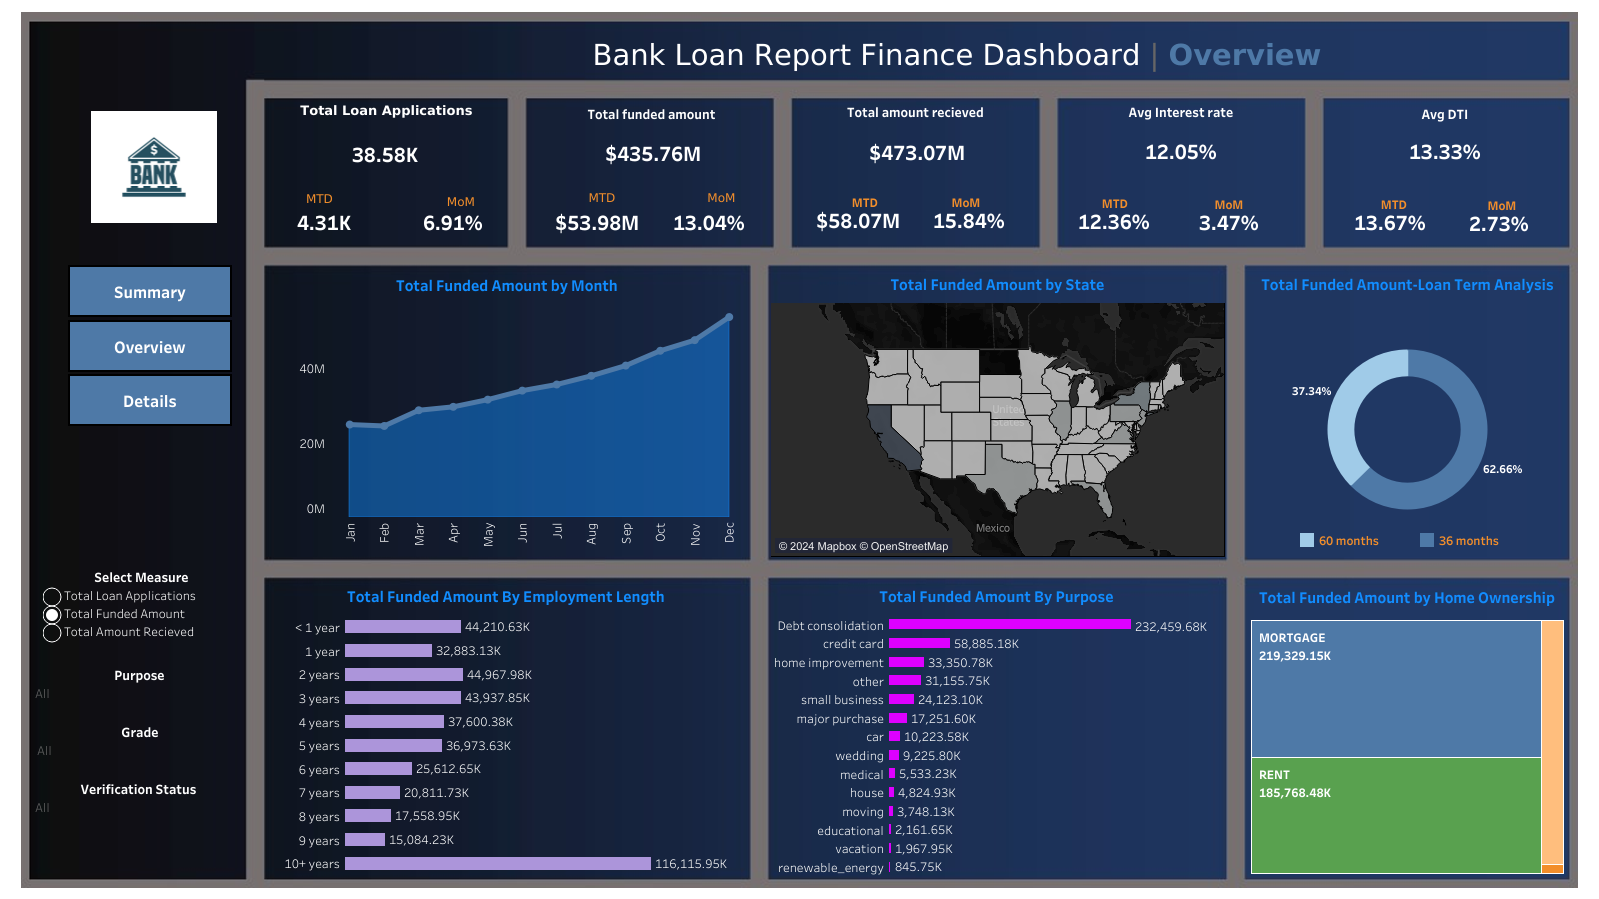

What the dashboard file says about the page in this screenshot:
{"tool":"tableau","page":{"name":"Overview","canvas":[1600,900],"ordinal":1},"visuals":[{"type":"image","param":"Image/Tableau Background 2.jpg","box":[8,8,1584,884]},{"type":"text","box":[461.1,27,992,55.5]},{"type":"worksheet","title":"Total Loan Applications","mark":"Automatic","box":[265,96,243,84]},{"type":"worksheet","title":"Total amount recieved","mark":"Automatic","box":[792,96,247,79]},{"type":"worksheet","title":"Avg Interest rate","mark":"Automatic","box":[1058,96,246,76]},{"type":"worksheet","title":"Total funded amount","mark":"Automatic","box":[532,98,239,77]},{"type":"worksheet","title":"Avg DTI","mark":"Automatic","box":[1323,98,244,73]},{"type":"image","param":"Image/Untitled.png","box":[91,103,126,129]},{"type":"text","box":[563,182,78,30]},{"type":"text","box":[682.2,184.5,78.5,25.5]},{"type":"text","box":[280,186,79,25]},{"type":"text","box":[421.8,189,78.5,25.5]},{"type":"text","box":[815,192,100,19]},{"type":"text","box":[916,192,100,19]},{"type":"text","box":[1065,193,100,19]},{"type":"text","box":[1179,194,100,19]},{"type":"text","box":[1344,194,100,19]},{"type":"text","box":[1452,195,100,19]},{"type":"worksheet","title":"Month to date Total recieved amount ","mark":"Automatic","box":[791,198,131,45]},{"type":"worksheet","title":"Month on month recieved  amount","mark":"Automatic","box":[898,198,142,44]},{"type":"worksheet","title":"Month to date Avg interest rate","mark":"Automatic","box":[1058,198,113,46]},{"type":"worksheet","title":"Month on month Loan Applications","mark":"Automatic","box":[397,199,113,47]},{"type":"worksheet","title":"Month to date Total funded amount","mark":"Automatic","box":[526,201,140,42]},{"type":"worksheet","title":"Month on month funded amount","mark":"Automatic","box":[646,202,127,40]},{"type":"worksheet","title":"Month to date Avg DTI","mark":"Automatic","box":[1322,203,136,39]},{"type":"worksheet","title":"Month on month Avg interest rate","mark":"Automatic","box":[1157,204,145,36]},{"type":"worksheet","title":"Month to date Total Loan Applications","mark":"Automatic","box":[271,205,108,34]},{"type":"worksheet","title":"Month on month Avg interest rate (2)","mark":"Automatic","box":[1432,207,134,32]},{"type":"dashboard-object","box":[68,265,164,52]},{"type":"worksheet","title":"State","mark":"Multipolygon","box":[771,267,453,289]},{"type":"worksheet","title":"Loan Term Analysis","mark":"Pie","cols":["Calculation_730990530841612290","Calculation_730990530841612290"],"box":[1248,267,319,289]},{"type":"worksheet","title":"Month","mark":"Area","rows":["Calculation_730990530834075648","Calculation_730990530834075648"],"cols":["issue_date"],"box":[268,268,478,289]},{"type":"dashboard-object","box":[68,320,164,52]},{"type":"dashboard-object","box":[68,374,164,52]},{"type":"legend","title":"Loan Term Analysis","param":"[federated.14ievtu05seqk316pjgtj1fu3us4].[none:term:nk]","box":[1297,530,250,24]},{"type":"parameter","param":"[Parameters].[Parameter 1]","box":[43,566,197,91]},{"type":"worksheet","title":"By Employment Length","mark":"Automatic","rows":["emp_length"],"cols":["Calculation_730990530834075648"],"box":[265,579,482,296]},{"type":"worksheet","title":"By Purpose","mark":"Automatic","rows":["purpose"],"cols":["Calculation_730990530834075648"],"box":[769,579,455,297]},{"type":"worksheet","title":"Home Ownership","mark":"Automatic","box":[1247,580,320,297]},{"type":"filter","title":"Avg DTI","param":"[federated.14ievtu05seqk316pjgtj1fu3us4].[none:purpose:nk]","box":[33,664,213,49]},{"type":"filter","title":"Avg DTI","param":"[federated.14ievtu05seqk316pjgtj1fu3us4].[none:grade:nk]","box":[35,721,210,54]},{"type":"filter","title":"Avg DTI","param":"[federated.14ievtu05seqk316pjgtj1fu3us4].[none:verification_status:nk]","box":[33,778,211,98]}]}

Visuals, with their boxes in screenshot pixels (x1, y1, x2, y2), scaled from the page's 1600x900 canvas onto the 1599x899 screenshot:
image: detection(8, 8, 1591, 891)
text: detection(461, 27, 1452, 82)
"Total Loan Applications" worksheet: detection(265, 96, 508, 180)
"Total amount recieved" worksheet: detection(792, 96, 1038, 175)
"Avg Interest rate" worksheet: detection(1057, 96, 1303, 172)
"Total funded amount" worksheet: detection(532, 98, 771, 175)
"Avg DTI" worksheet: detection(1322, 98, 1566, 171)
image: detection(91, 103, 217, 232)
text: detection(563, 182, 641, 212)
text: detection(682, 184, 760, 210)
text: detection(280, 186, 359, 211)
text: detection(422, 189, 500, 214)
text: detection(814, 192, 914, 211)
text: detection(915, 192, 1015, 211)
text: detection(1064, 193, 1164, 212)
text: detection(1178, 194, 1278, 213)
text: detection(1343, 194, 1443, 213)
text: detection(1451, 195, 1551, 214)
"Month to date Total recieved amount " worksheet: detection(791, 198, 921, 243)
"Month on month recieved  amount" worksheet: detection(897, 198, 1039, 242)
"Month to date Avg interest rate" worksheet: detection(1057, 198, 1170, 244)
"Month on month Loan Applications" worksheet: detection(397, 199, 510, 246)
"Month to date Total funded amount" worksheet: detection(526, 201, 666, 243)
"Month on month funded amount" worksheet: detection(646, 202, 773, 242)
"Month to date Avg DTI" worksheet: detection(1321, 203, 1457, 242)
"Month on month Avg interest rate" worksheet: detection(1156, 204, 1301, 240)
"Month to date Total Loan Applications" worksheet: detection(271, 205, 379, 239)
"Month on month Avg interest rate (2)" worksheet: detection(1431, 207, 1565, 239)
dashboard-object: detection(68, 265, 232, 317)
"State" worksheet (Multipolygon marks): detection(771, 267, 1223, 555)
"Loan Term Analysis" worksheet (Pie marks): detection(1247, 267, 1566, 555)
"Month" worksheet (Area marks): detection(268, 268, 746, 556)
dashboard-object: detection(68, 320, 232, 372)
dashboard-object: detection(68, 374, 232, 426)
"Loan Term Analysis" legend: detection(1296, 529, 1546, 553)
parameter: detection(43, 565, 240, 656)
"By Employment Length" worksheet: detection(265, 578, 747, 874)
"By Purpose" worksheet: detection(769, 578, 1223, 875)
"Home Ownership" worksheet: detection(1246, 579, 1566, 876)
"Avg DTI" filter: detection(33, 663, 246, 712)
"Avg DTI" filter: detection(35, 720, 245, 774)
"Avg DTI" filter: detection(33, 777, 244, 875)
